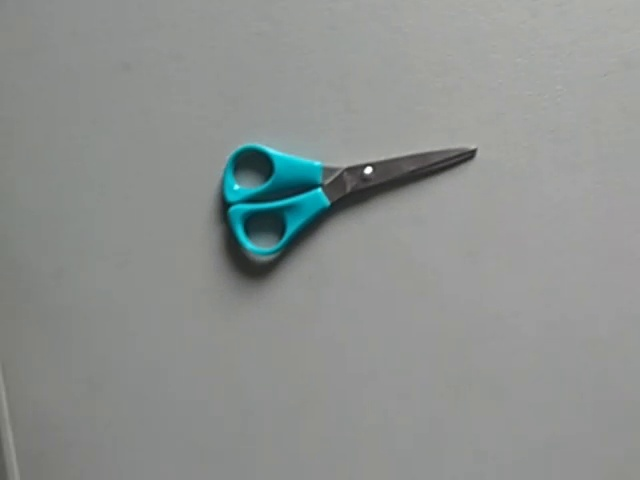Sizer: (212, 129, 503, 289)
